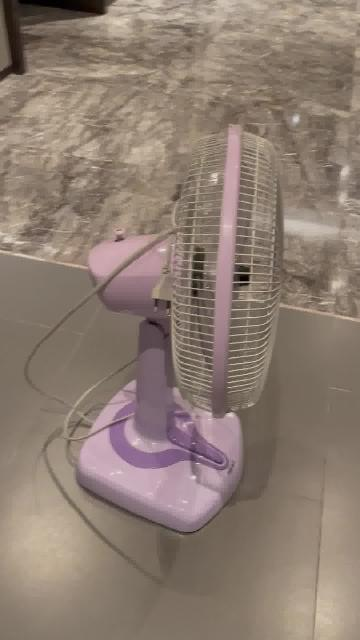Fan: (76, 126, 283, 536)
